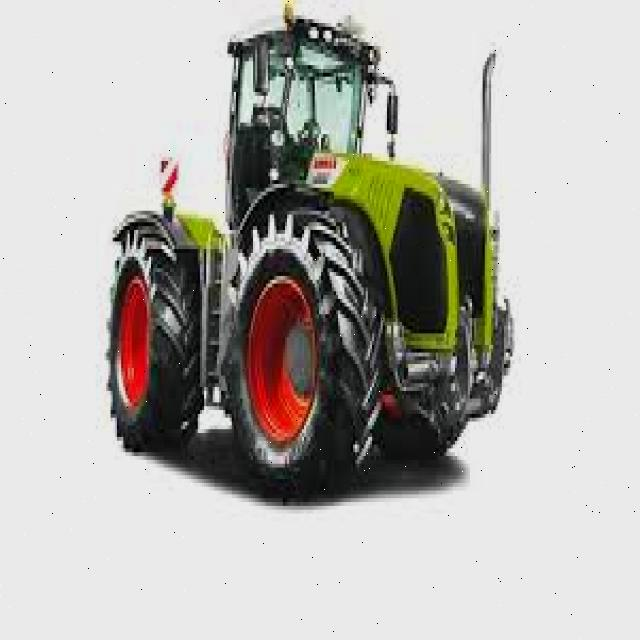Tratores - v5 YOLO V8L 2024-11-13: (106, 17, 514, 507)
